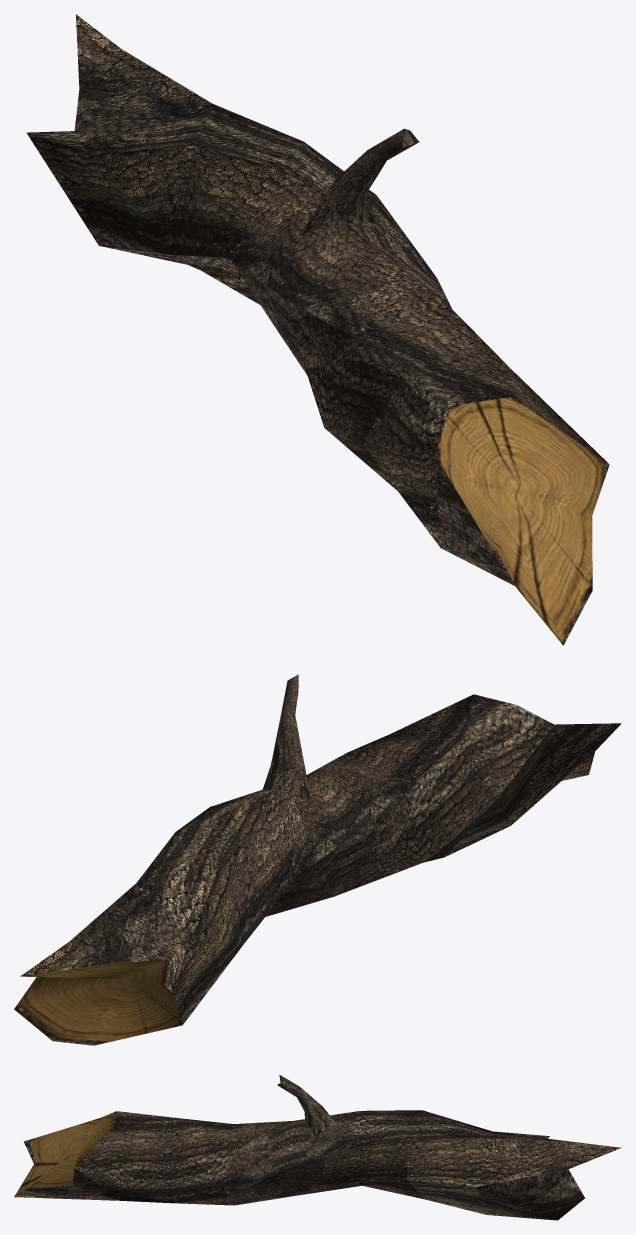
Rendered from fdec905.glb.
The picture shows the model from 3 angles, top to bottom: view 1: azimuth 30°, elevation 25°; view 2: azimuth 150°, elevation 25°; view 3: azimuth 270°, elevation 25°; orthographic projection. The views are drawn at different scales.
Parts seen in each view (by area): view 1: fdec905-col; view 2: fdec905-col; view 3: fdec905-col.
Boxes of the visible parts, x1,y1,x2,y2 form: fdec905-col: (26,14,609,645); fdec905-col: (14,674,621,1045); fdec905-col: (14,1074,621,1220).
Size of the model in its own units: 1.86 by 2.44 by 9.04.
Materials: 2 (2 with a texture image).
